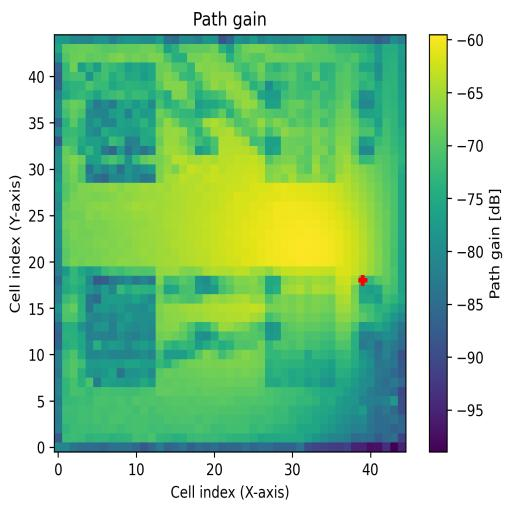Concrete: (266, 63, 336, 183)
Glass: (86, 63, 156, 182)
Metal: (266, 276, 336, 387)
Wood: (86, 276, 156, 388)
